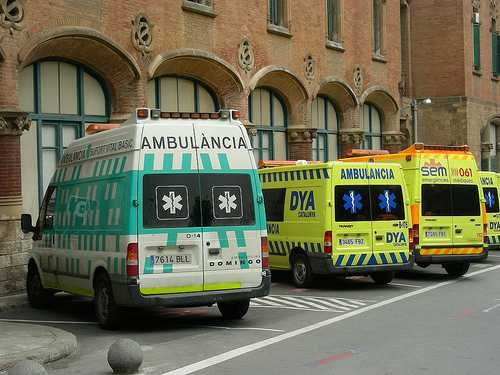Ambulance: (17, 108, 277, 325), (247, 147, 414, 285), (388, 140, 493, 272), (472, 159, 500, 262)
